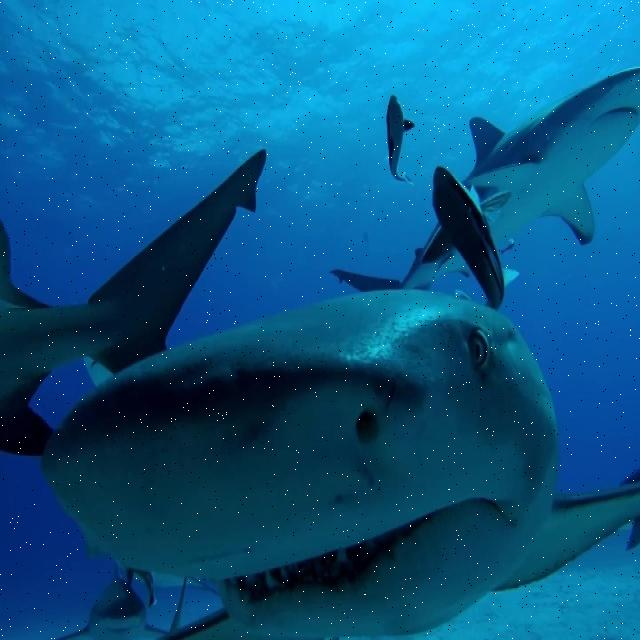fish: (43, 289, 639, 639), (0, 148, 265, 453), (329, 67, 639, 310), (423, 166, 520, 310), (62, 566, 169, 639), (386, 96, 417, 186)
